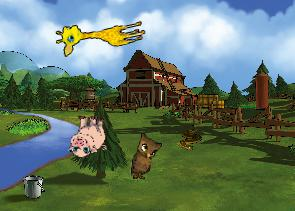giraffe: (53, 9, 147, 58)
owl: (130, 132, 163, 182)
pig: (67, 113, 108, 158)
